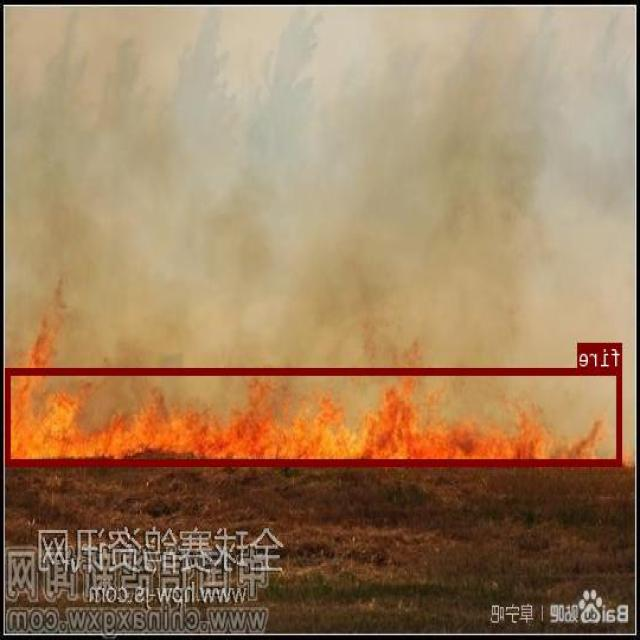fire: (7, 367, 623, 465)
